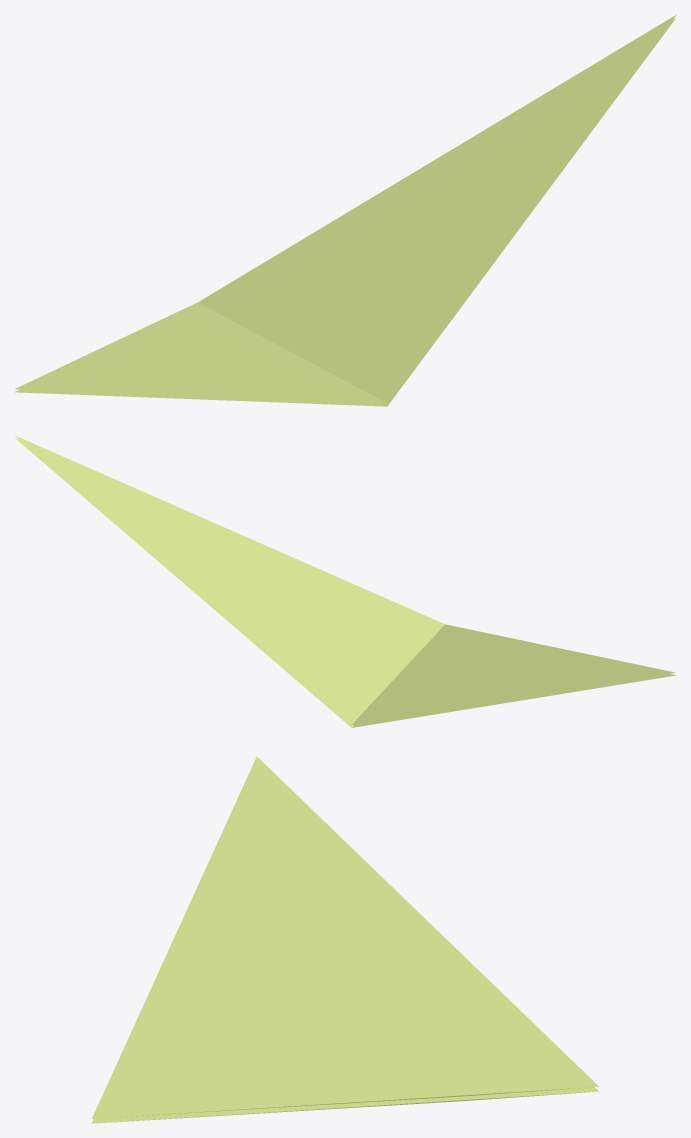
Rendered from bamboo_leaf_young.glb.
3 renders of one model, top to bottom at view 1: azimuth 30°, elevation 25°; view 2: azimuth 150°, elevation 25°; view 3: azimuth 270°, elevation 25°, orthographic. The views are drawn at different scales.
Visible parts, largest first — view 1: bamboo_leaf_young; view 2: bamboo_leaf_young; view 3: bamboo_leaf_young.
Boxes of the visible parts, <box> form: bamboo_leaf_young: <box>14,14,676,406</box>; bamboo_leaf_young: <box>15,435,676,727</box>; bamboo_leaf_young: <box>91,756,598,1123</box>.
Size of the model in its own units: 0.9708 by 0.2714 by 0.3499.
